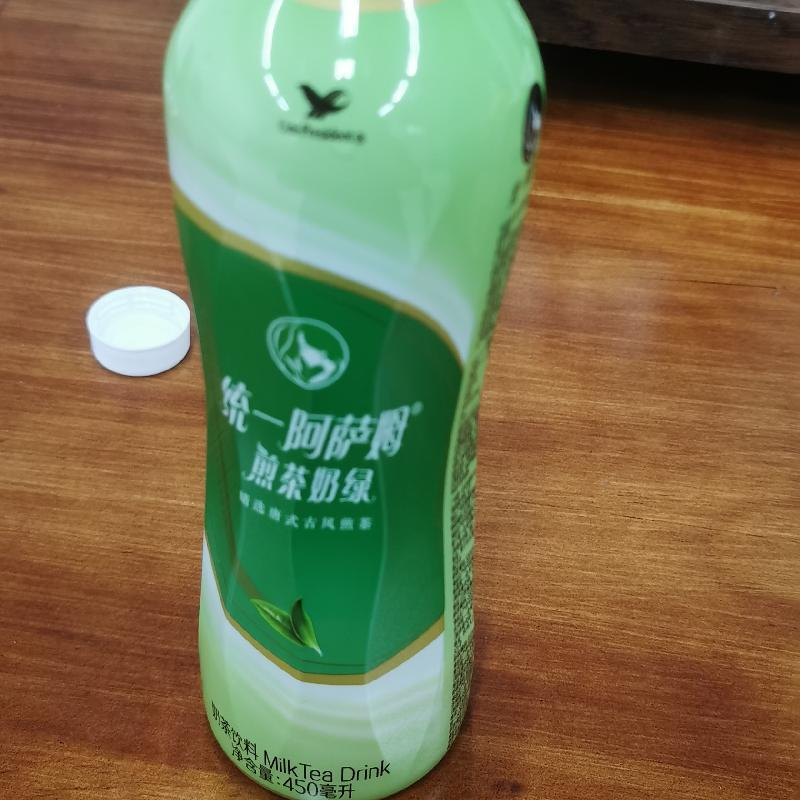bottles: (162, 0, 552, 799)
